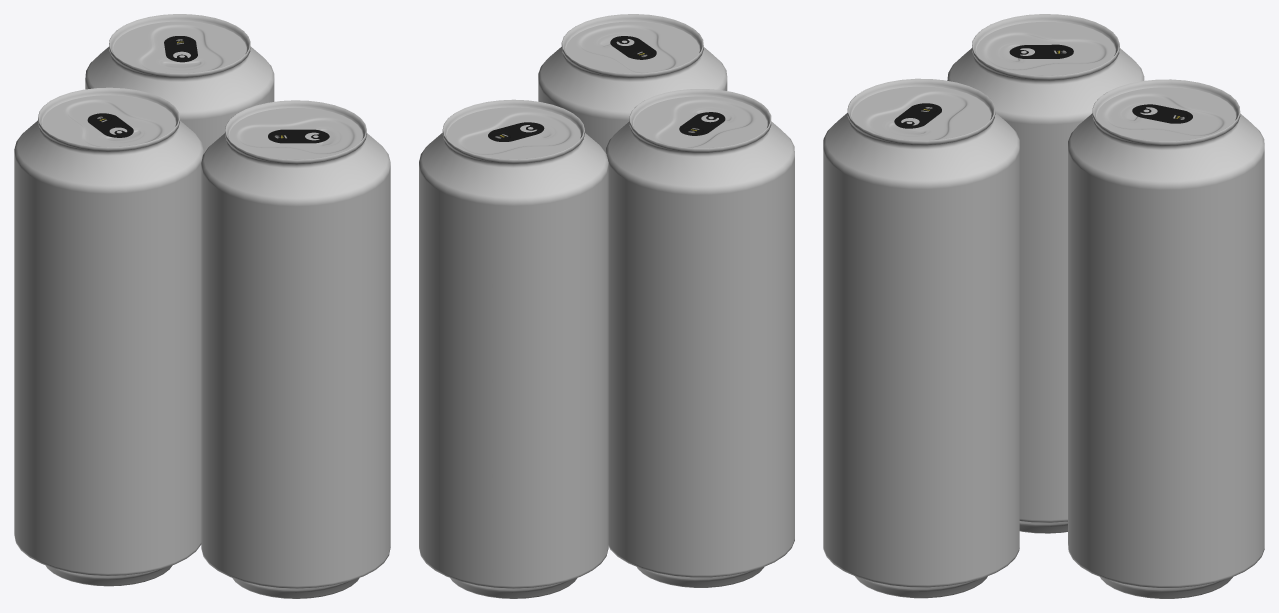
The model's file is Can_energy_drink.fbx.
The picture shows the model from 3 angles, left to right: view 1: azimuth 30°, elevation 25°; view 2: azimuth 150°, elevation 25°; view 3: azimuth 270°, elevation 25°; orthographic projection. The views are drawn at different scales.
Visible parts, largest first — view 1: Can.001, Can, Can.002, Top_Can.001, Top_Can, Top_Can.002, abridor.001, abridor, abridor.002; view 2: Can.002, Can, Can.001, Top_Can.002, Top_Can.001, Top_Can, abridor.002, abridor, abridor.001; view 3: Can.002, Can.001, Can, Top_Can.002, Top_Can.001, Top_Can, abridor.002, abridor, abridor.001.
Part boxes in pixels (x1,y1,x2,y2): Can.001: (201,100,390,598); Can: (14,87,203,586); Can.002: (85,14,274,153); Top_Can.001: (229,108,362,159); Top_Can: (42,95,175,147); Top_Can.002: (113,21,246,73); abridor.001: (268,129,329,143); abridor: (87,113,133,137); abridor.002: (164,36,197,62); Can.002: (419,99,608,598); Can: (606,89,794,587); Can.001: (538,14,727,152); Top_Can.002: (447,107,580,159); Top_Can.001: (566,21,699,73); Top_Can: (633,96,767,148); abridor.002: (488,122,544,141); abridor: (679,112,725,135); abridor.001: (610,36,656,59); Can.002: (1068,79,1264,598); Can.001: (823,78,1019,598); Can: (947,14,1144,533); Top_Can.002: (1097,87,1235,141); Top_Can.001: (852,86,990,140); Top_Can: (976,22,1115,75); abridor.002: (1132,104,1192,123); abridor: (1009,44,1073,58); abridor.001: (894,103,941,128).
Size of the model in its own units: 1.92 by 2.76 by 2.41.
